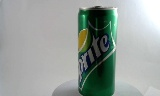sprite: (71, 5, 110, 95)
